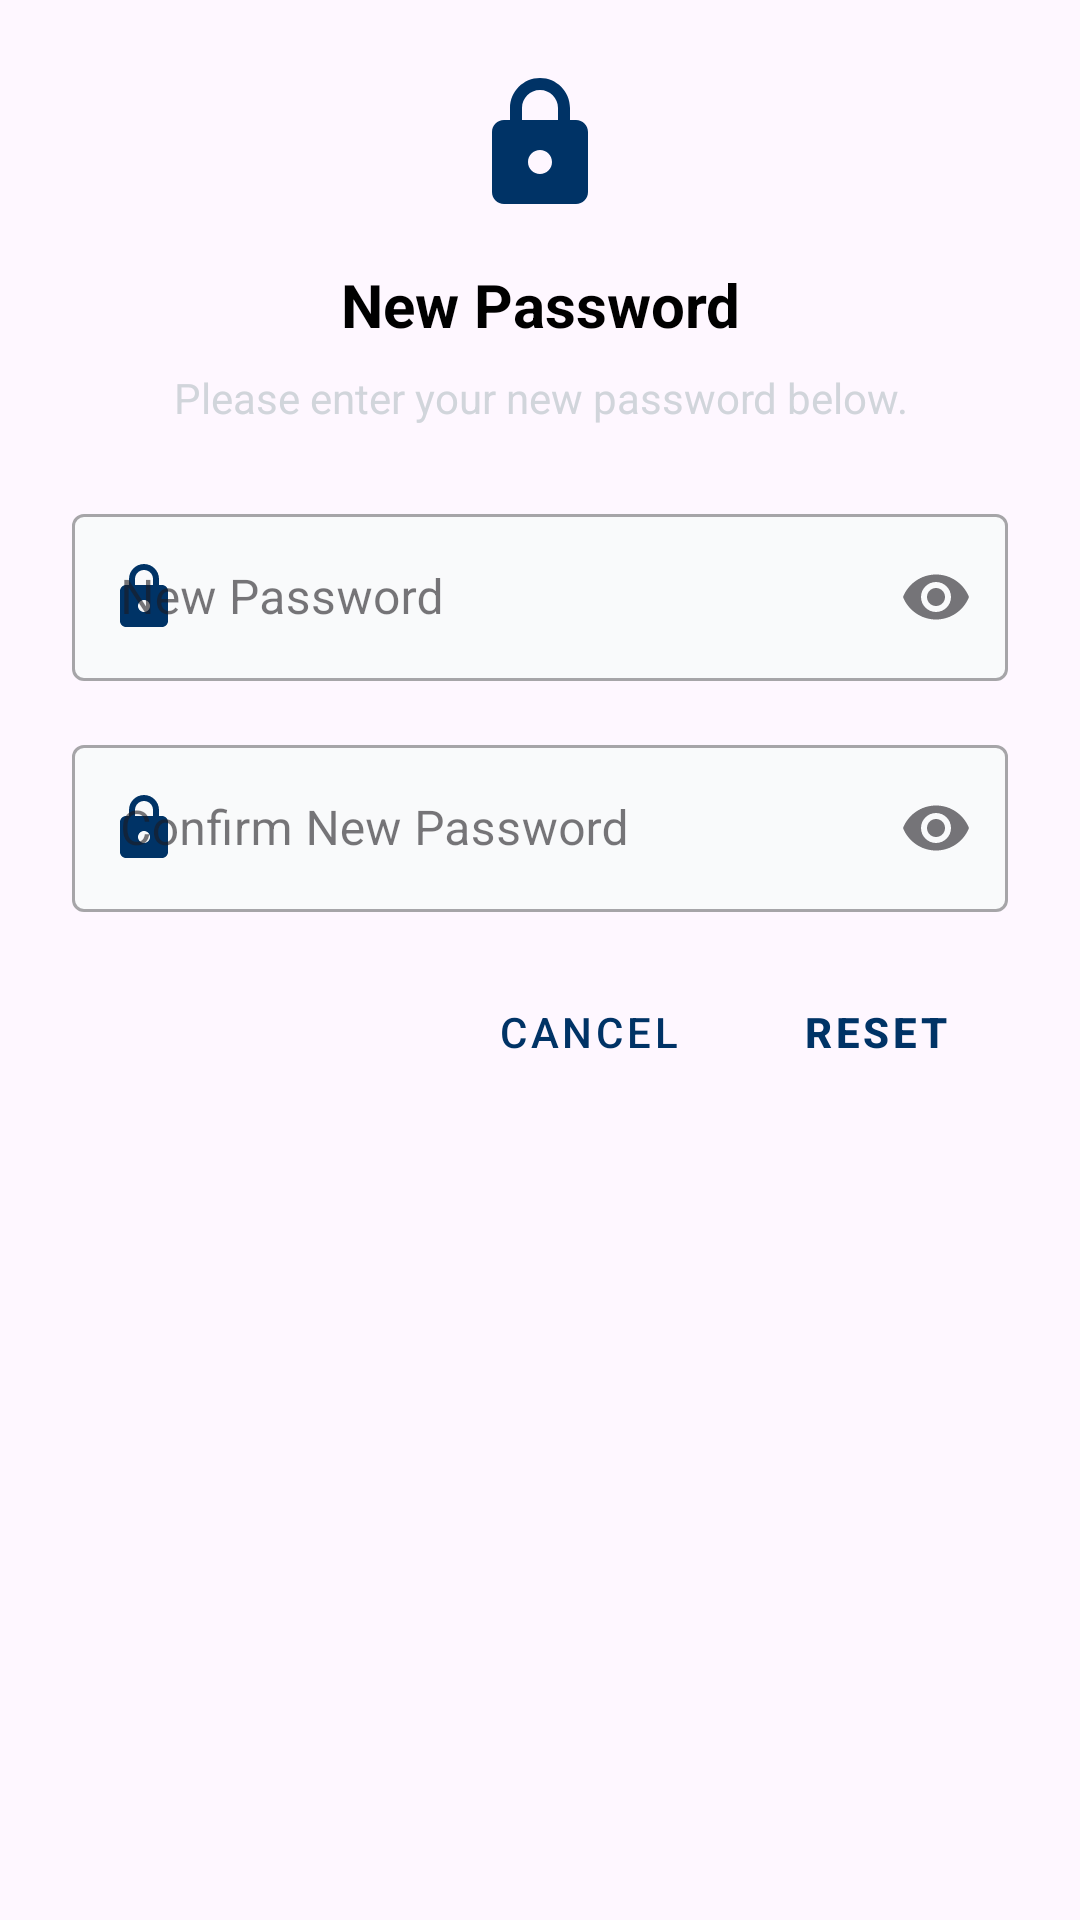

Icons on this 1080×1920 Android screen, each with its box as (x1, y1, x2, y2):
lock: (492, 78, 588, 204)
